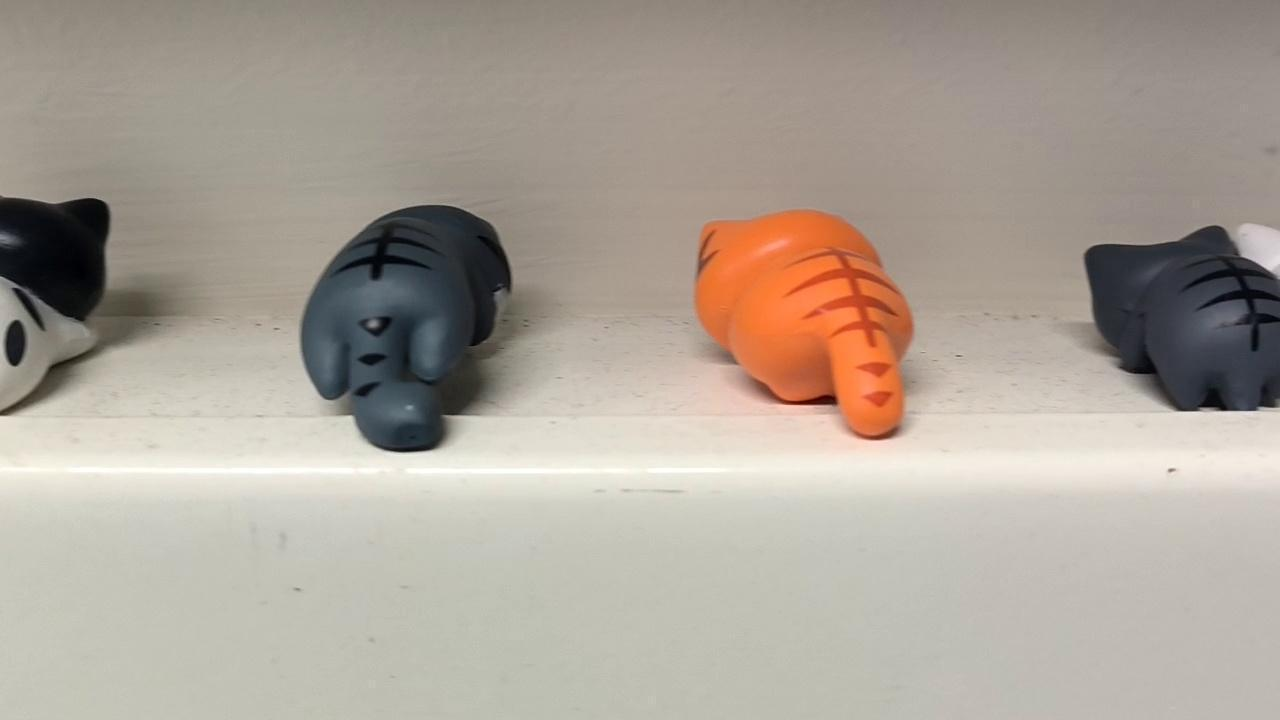pet: (293, 193, 523, 452), (681, 200, 920, 448), (1079, 219, 1280, 426)
